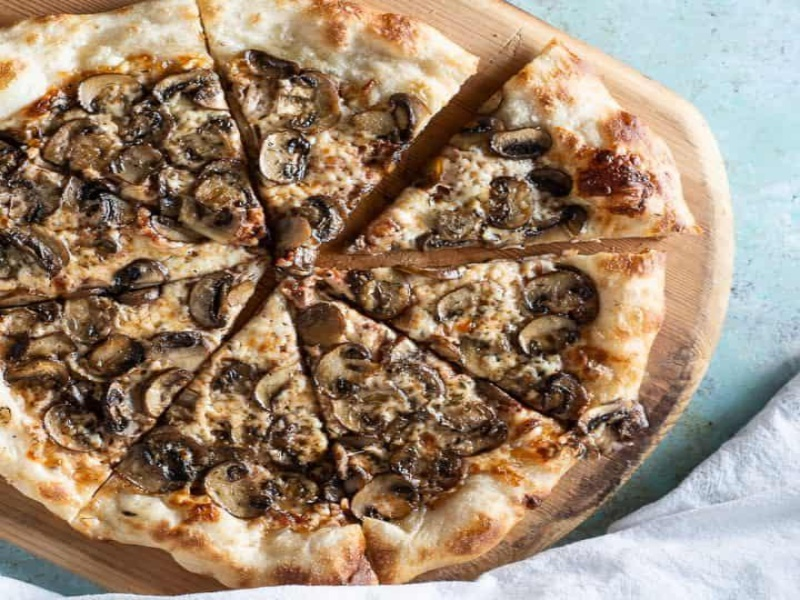champignon: (200, 459, 282, 527), (520, 262, 602, 321), (175, 266, 238, 335), (75, 68, 150, 125), (251, 127, 316, 192), (308, 339, 376, 401), (514, 315, 588, 364), (483, 176, 543, 234), (485, 122, 559, 164)
